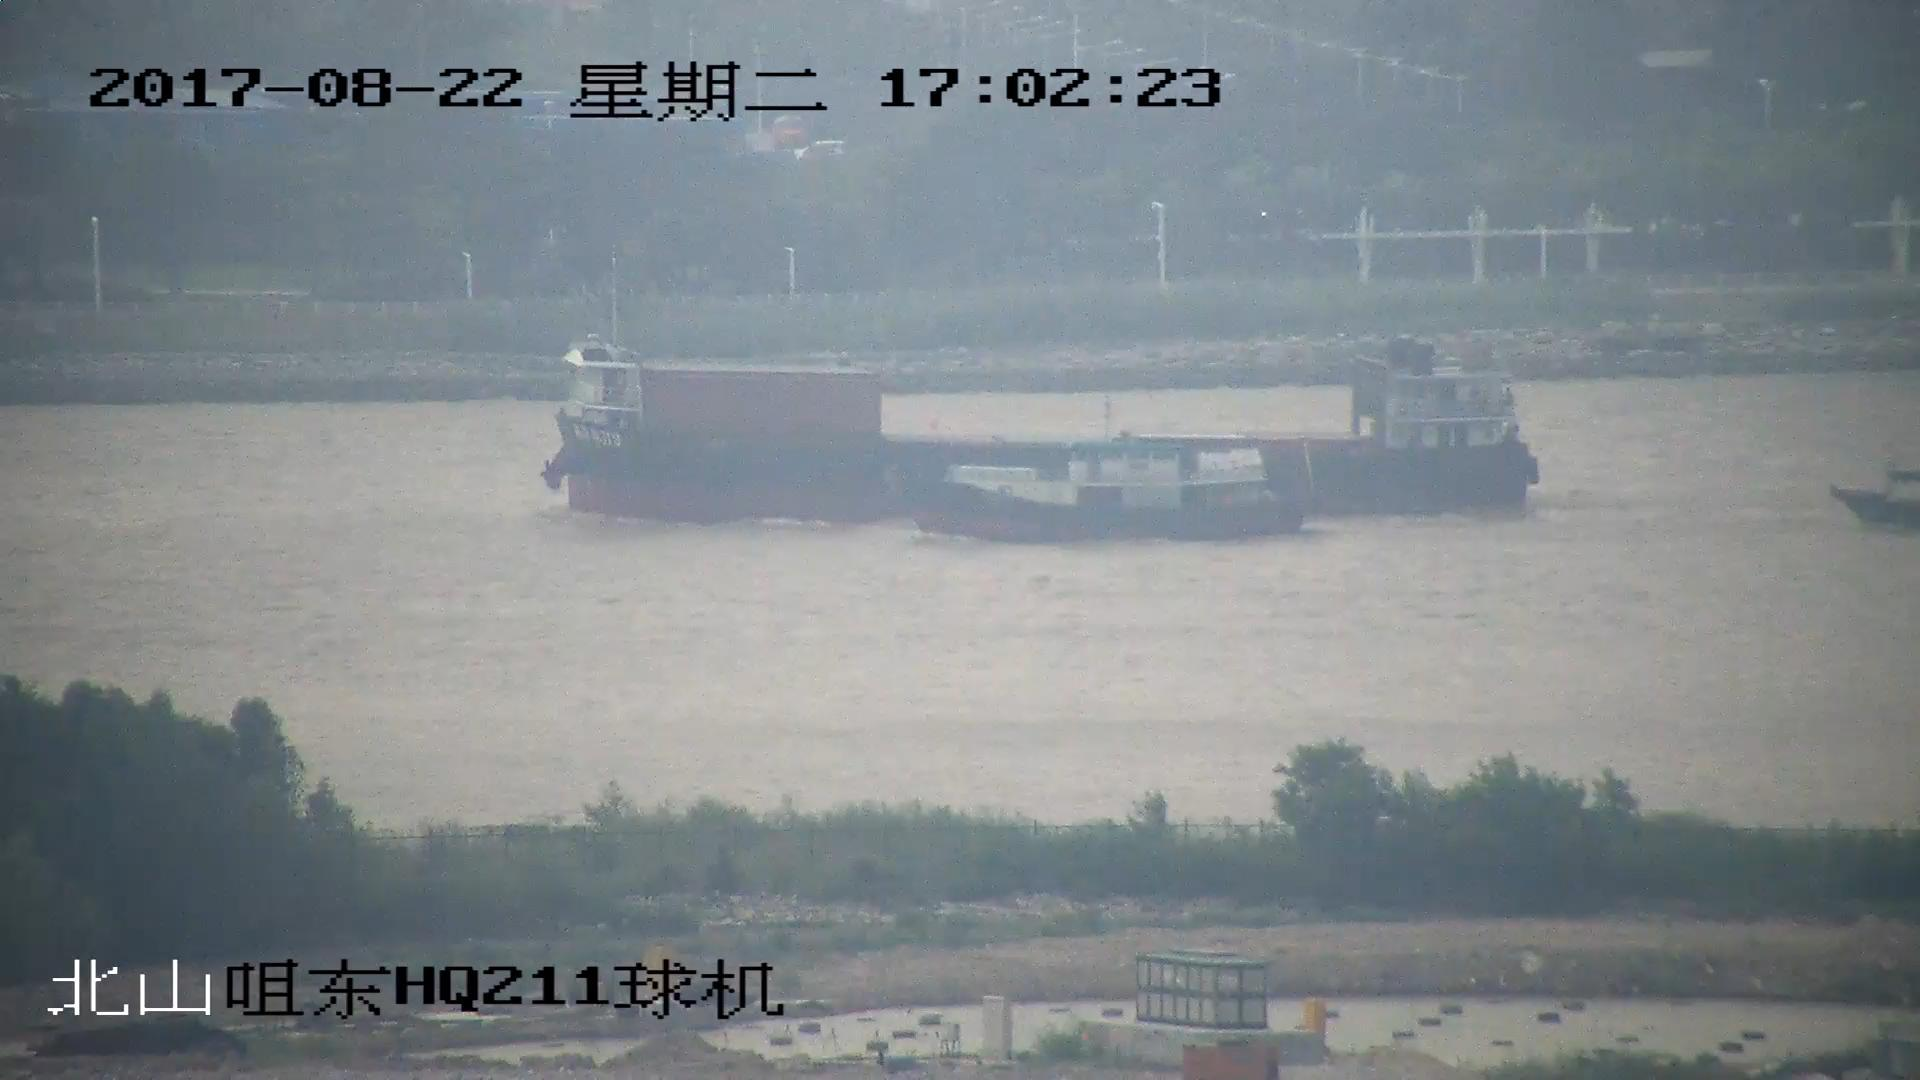Ship: (543, 324, 1545, 520), (903, 434, 1302, 541)
